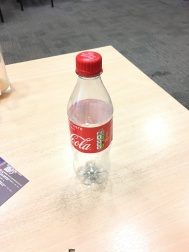bottle_red: (63, 46, 122, 194)
